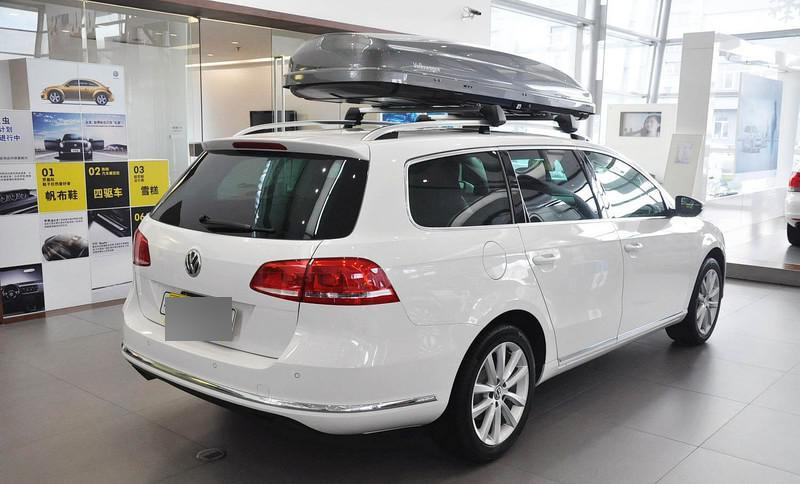Wagon: (119, 31, 728, 463)
